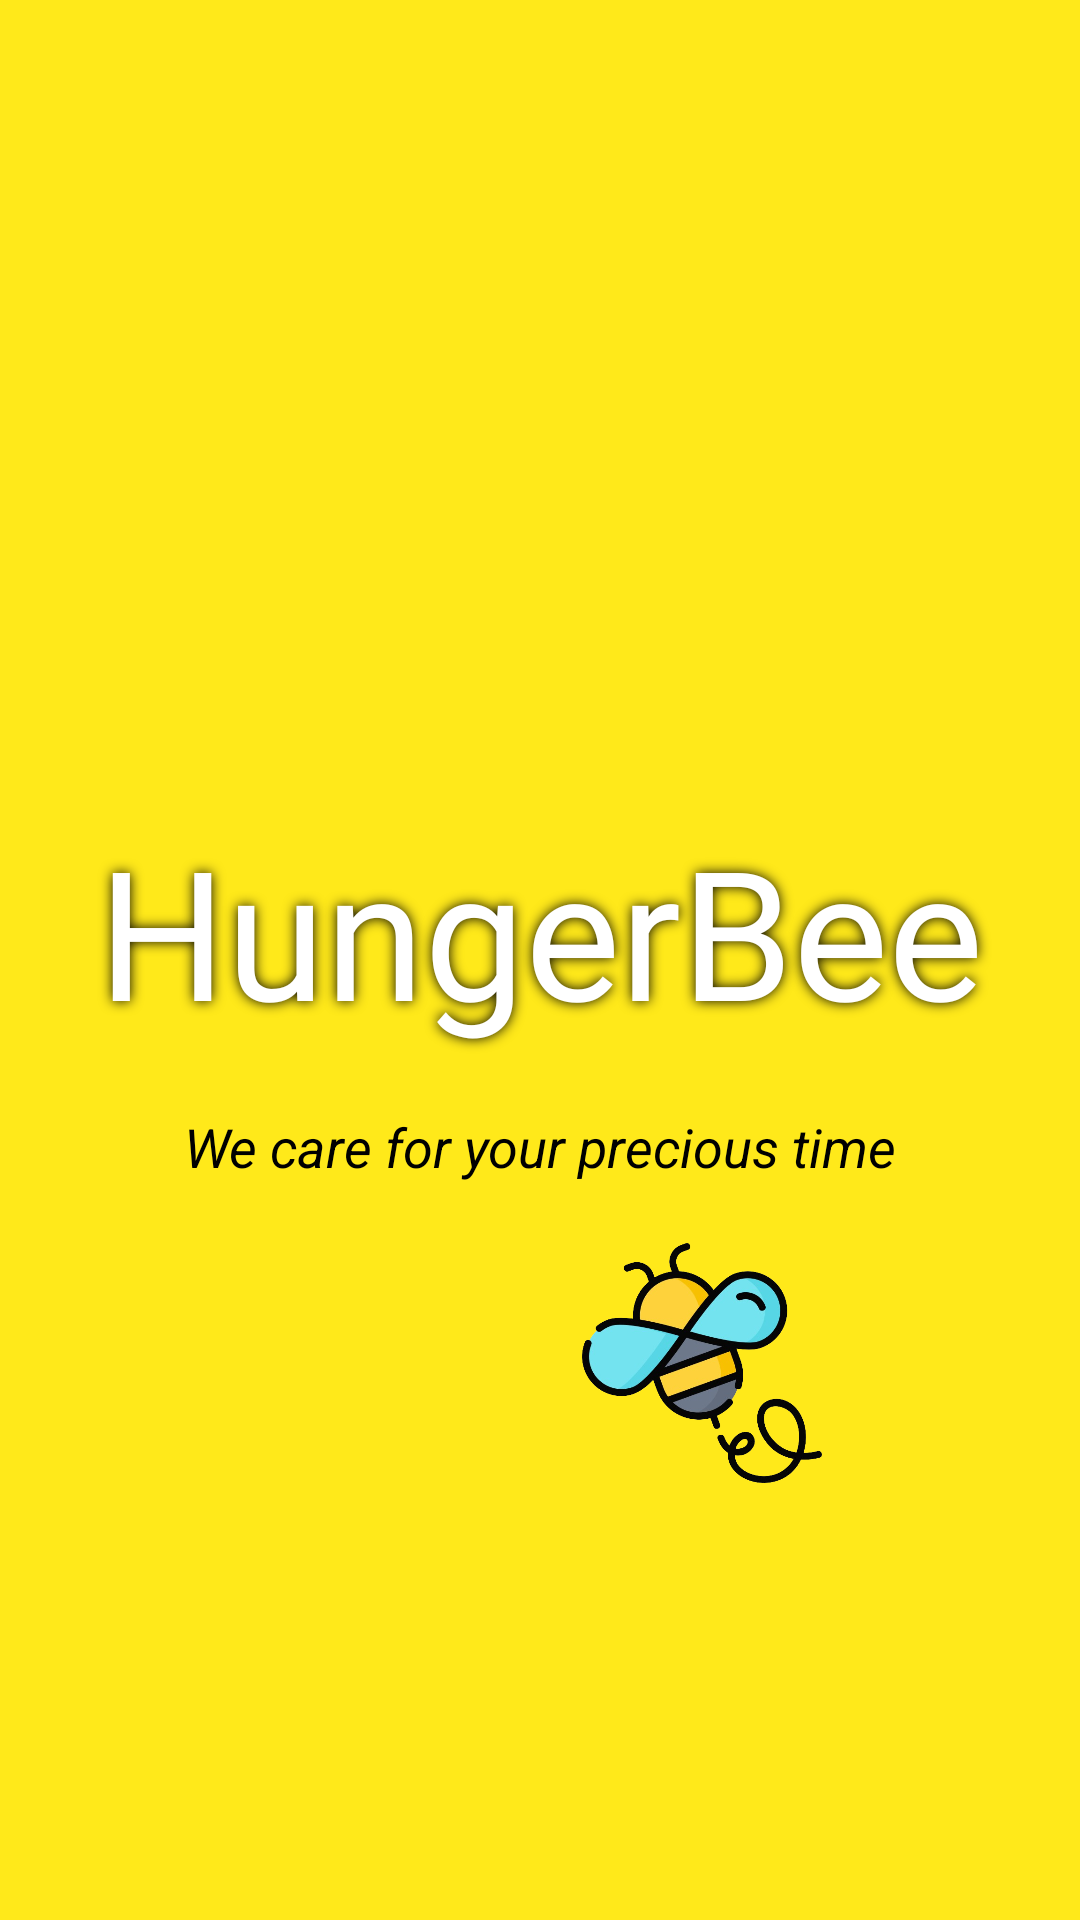

Icons on this 1080 × 1920 Android screen, each with the point to tap as (x=x, y=y):
bee: (x=702, y=1363)
